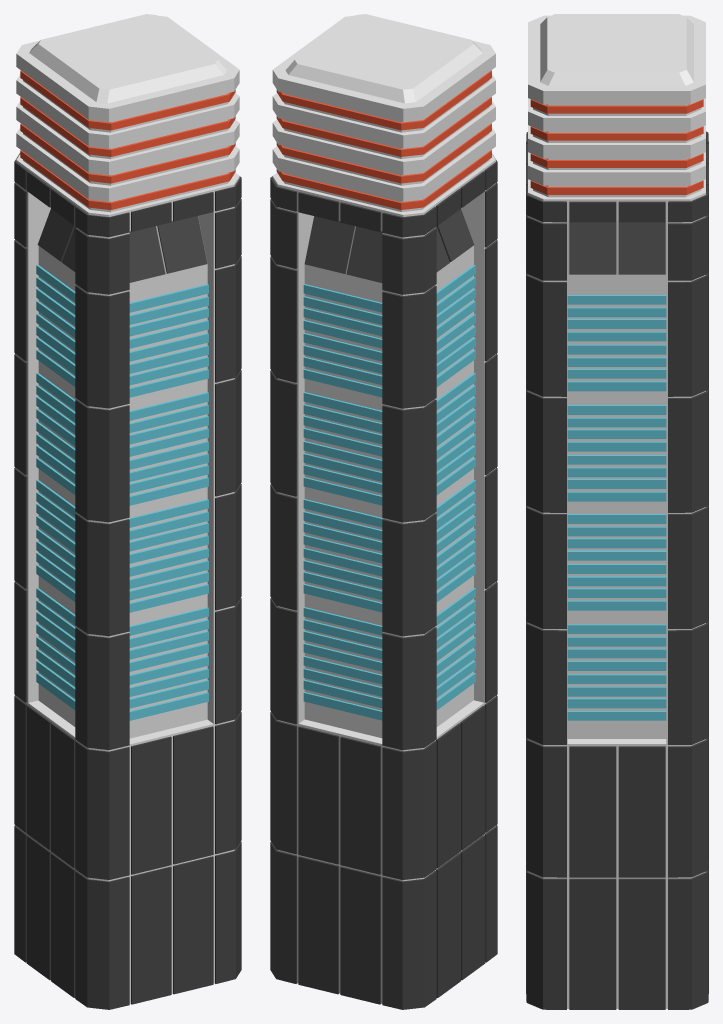
The model's file is Building1.fbx.
3 renders of one model, left to right at view 1: azimuth 30°, elevation 25°; view 2: azimuth 150°, elevation 25°; view 3: azimuth 270°, elevation 25°, orthographic.
Visible parts, largest first — view 1: pasted__Edificio, pasted__Ventanas4, pasted__pasted__polySurface148, pasted__pasted__polySurface147, pasted__pasted__polySurface183, pasted__pasted__polySurface158, pasted__pasted__polySurface206, pasted__pasted__polySurface160, pasted__pasted__polySurface55, pasted__pasted__polySurface82, pasted__pasted__polySurface81, pasted__pasted__polySurface166 (+28 smaller); view 2: pasted__Edificio, pasted__Ventanas4, pasted__pasted__polySurface150, pasted__pasted__polySurface222, pasted__pasted__polySurface195, pasted__pasted__polySurface200, pasted__pasted__polySurface207, pasted__pasted__polySurface181, pasted__pasted__polySurface92, pasted__pasted__polySurface50, pasted__pasted__polySurface167, pasted__pasted__polySurface187 (+28 smaller); view 3: pasted__Edificio, pasted__Ventanas4, pasted__pasted__polySurface215, pasted__pasted__polySurface221, pasted__pasted__polySurface164, pasted__pasted__polySurface185, pasted__pasted__polySurface151, pasted__pasted__polySurface224, pasted__pasted__polySurface146, pasted__pasted__polySurface218, pasted__pasted__polySurface136, pasted__pasted__polySurface180 (+14 smaller).
Boxes of the visible parts, x1=… form: pasted__Edificio: x1=16, y1=14, x2=239, y2=1003; pasted__Ventanas4: x1=36, y1=265, x2=208, y2=720; pasted__pasted__polySurface148: x1=75, y1=871, x2=129, y2=1009; pasted__pasted__polySurface147: x1=75, y1=741, x2=129, y2=879; pasted__pasted__polySurface183: x1=75, y1=513, x2=129, y2=636; pasted__pasted__polySurface158: x1=75, y1=399, x2=129, y2=522; pasted__pasted__polySurface206: x1=75, y1=285, x2=129, y2=408; pasted__pasted__polySurface160: x1=75, y1=627, x2=129, y2=749; pasted__pasted__polySurface55: x1=173, y1=856, x2=213, y2=994; pasted__pasted__polySurface82: x1=131, y1=736, x2=171, y2=874; pasted__pasted__polySurface81: x1=173, y1=726, x2=213, y2=864; pasted__pasted__polySurface166: x1=131, y1=866, x2=171, y2=1004; pasted__Edificio: x1=272, y1=14, x2=495, y2=1003; pasted__Ventanas4: x1=303, y1=265, x2=475, y2=720; pasted__pasted__polySurface150: x1=382, y1=741, x2=436, y2=879; pasted__pasted__polySurface222: x1=382, y1=871, x2=436, y2=1009; pasted__pasted__polySurface195: x1=382, y1=513, x2=436, y2=636; pasted__pasted__polySurface200: x1=382, y1=285, x2=436, y2=408; pasted__pasted__polySurface207: x1=382, y1=399, x2=436, y2=522; pasted__pasted__polySurface181: x1=382, y1=627, x2=436, y2=750; pasted__pasted__polySurface92: x1=298, y1=726, x2=339, y2=864; pasted__pasted__polySurface50: x1=298, y1=856, x2=339, y2=994; pasted__pasted__polySurface167: x1=340, y1=736, x2=381, y2=874; pasted__pasted__polySurface187: x1=340, y1=866, x2=381, y2=1004; pasted__Edificio: x1=528, y1=14, x2=705, y2=1008; pasted__Ventanas4: x1=567, y1=295, x2=666, y2=720; pasted__pasted__polySurface215: x1=618, y1=746, x2=665, y2=877; pasted__pasted__polySurface221: x1=569, y1=746, x2=616, y2=877; pasted__pasted__polySurface164: x1=569, y1=878, x2=616, y2=1009; pasted__pasted__polySurface185: x1=618, y1=878, x2=665, y2=1009; pasted__pasted__polySurface151: x1=668, y1=730, x2=708, y2=877; pasted__pasted__polySurface224: x1=668, y1=863, x2=708, y2=1009; pasted__pasted__polySurface146: x1=526, y1=863, x2=566, y2=1009; pasted__pasted__polySurface218: x1=526, y1=730, x2=566, y2=877; pasted__pasted__polySurface136: x1=668, y1=614, x2=708, y2=744; pasted__pasted__polySurface180: x1=668, y1=498, x2=708, y2=628.
Size of the model in its own units: 7549 by 42281 by 7549.
